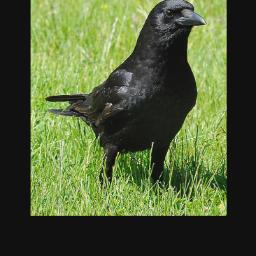Crow: (45, 0, 208, 191)
